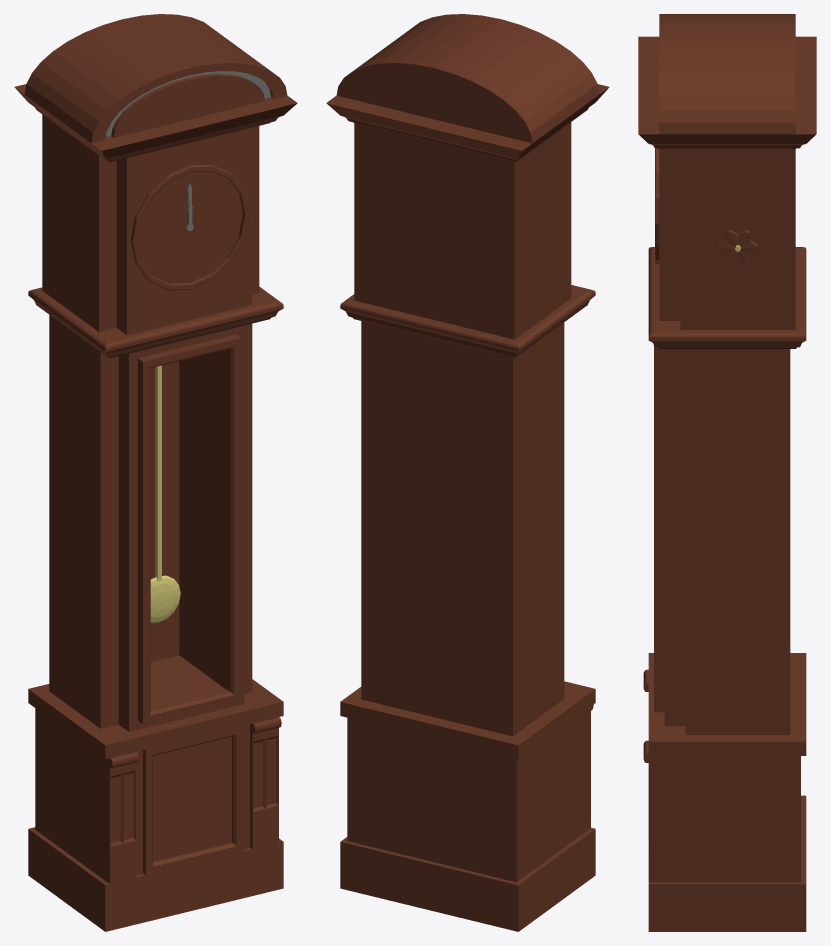
File: clock.fbx
3 views of the same model, side by side, from view 1: azimuth 30°, elevation 25°; view 2: azimuth 150°, elevation 25°; view 3: azimuth 270°, elevation 25° (orthographic).
Visible parts, largest first — view 1: ClockBody, SecretDoor; view 2: ClockBody; view 3: ClockBody, Turn.
Boxes of the visible parts, x1,y1,x2,y2 form: ClockBody: (14,14,297,931); SecretDoor: (143,725,243,875); ClockBody: (326,14,609,931); ClockBody: (638,14,816,931); Turn: (718,229,757,264).
Bounding box in the file's own units: 44.3 × 180 × 34.
